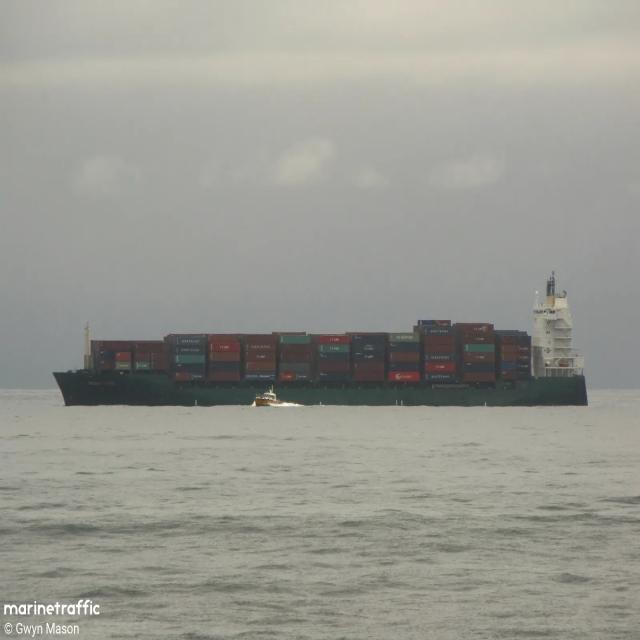Cargo: (53, 276, 587, 406)
